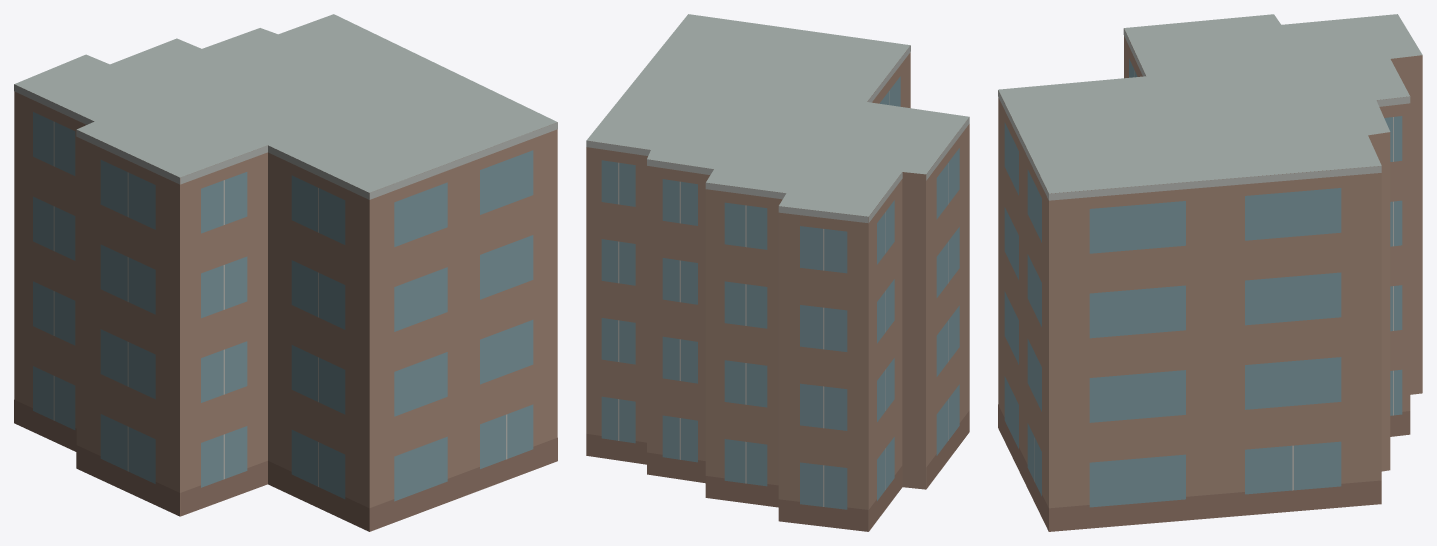
File: survey-upis-32952051.glb
3 renders of one model, left to right at view 1: azimuth 30°, elevation 25°; view 2: azimuth 150°, elevation 25°; view 3: azimuth 270°, elevation 25°, orthographic. The views are drawn at different scales.
Visible parts, largest first — view 1: survey-upis-32952051.tmp; view 2: survey-upis-32952051.tmp; view 3: survey-upis-32952051.tmp.
Boxes of the visible parts, x1,y1,x2,y2 form: survey-upis-32952051.tmp: [14, 14, 557, 531]; survey-upis-32952051.tmp: [586, 14, 969, 531]; survey-upis-32952051.tmp: [998, 14, 1422, 531].
Bounding box in the file's own units: 13.33 × 11.7 × 13.32.
